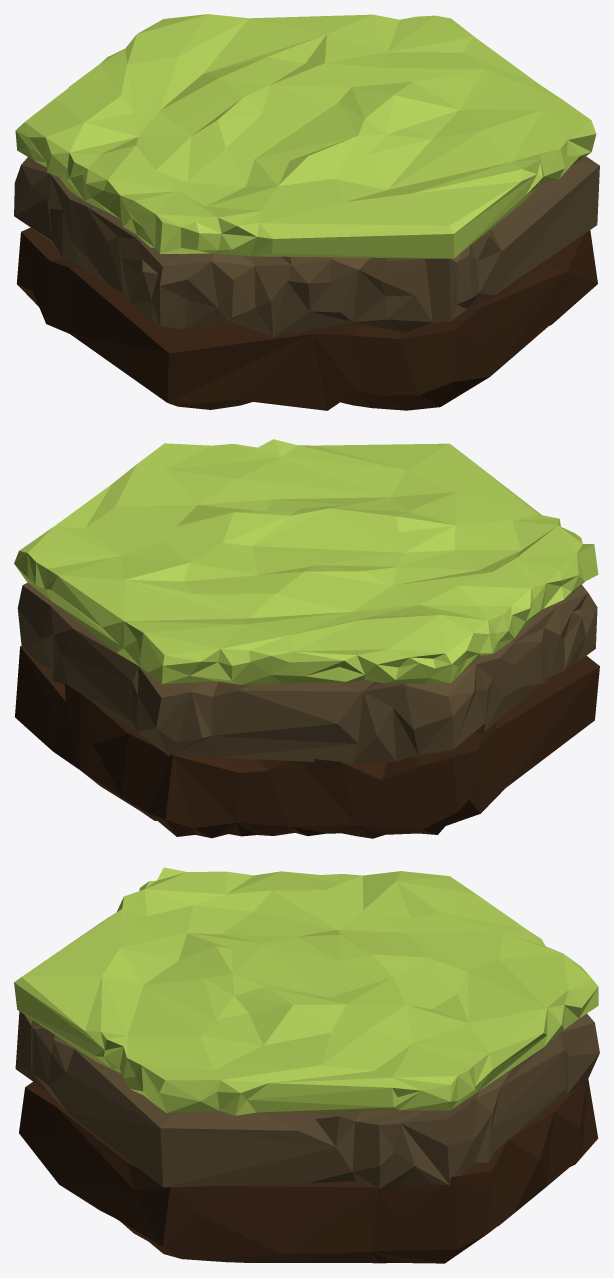
Rendered from grass.fbx.
3 views of the same model, one above another, from view 1: azimuth 30°, elevation 25°; view 2: azimuth 150°, elevation 25°; view 3: azimuth 270°, elevation 25° (orthographic).
Visible parts, largest first — view 1: grass; view 2: grass; view 3: grass.
Boxes of the visible parts, left/top/right/bottom form: grass: left=14, top=14, right=599, bottom=410; grass: left=14, top=439, right=599, bottom=838; grass: left=14, top=867, right=599, bottom=1263.
Size of the model in its own units: 984 by 439 by 1125.
